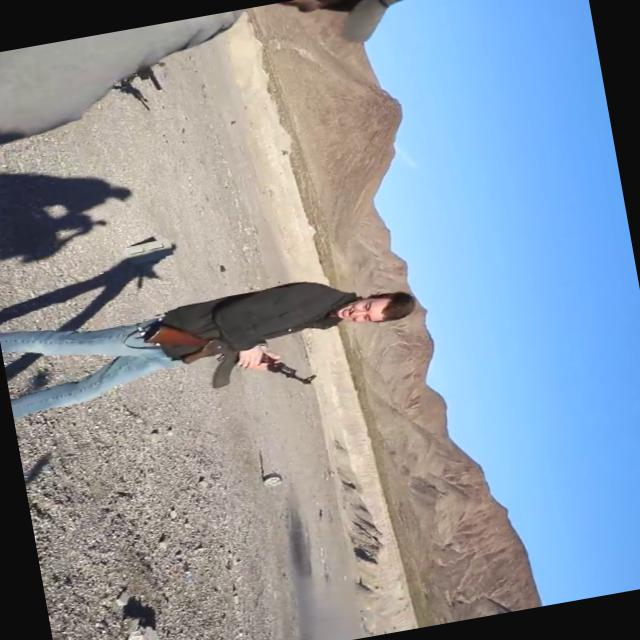long weapon: (135, 288, 324, 428)
